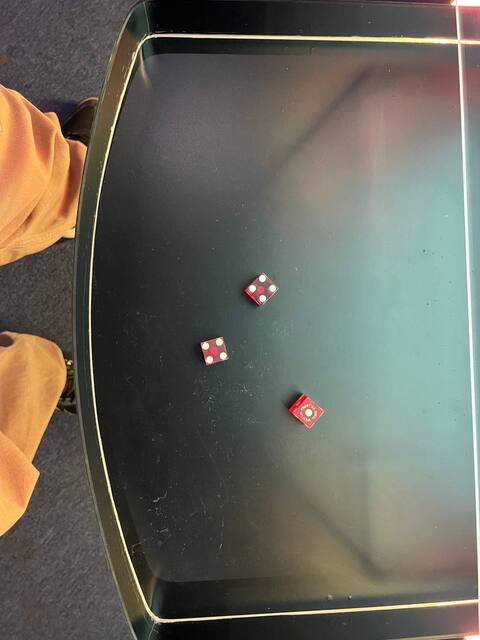four: (196, 333, 233, 371), (244, 270, 279, 305)
one: (292, 397, 327, 431)
